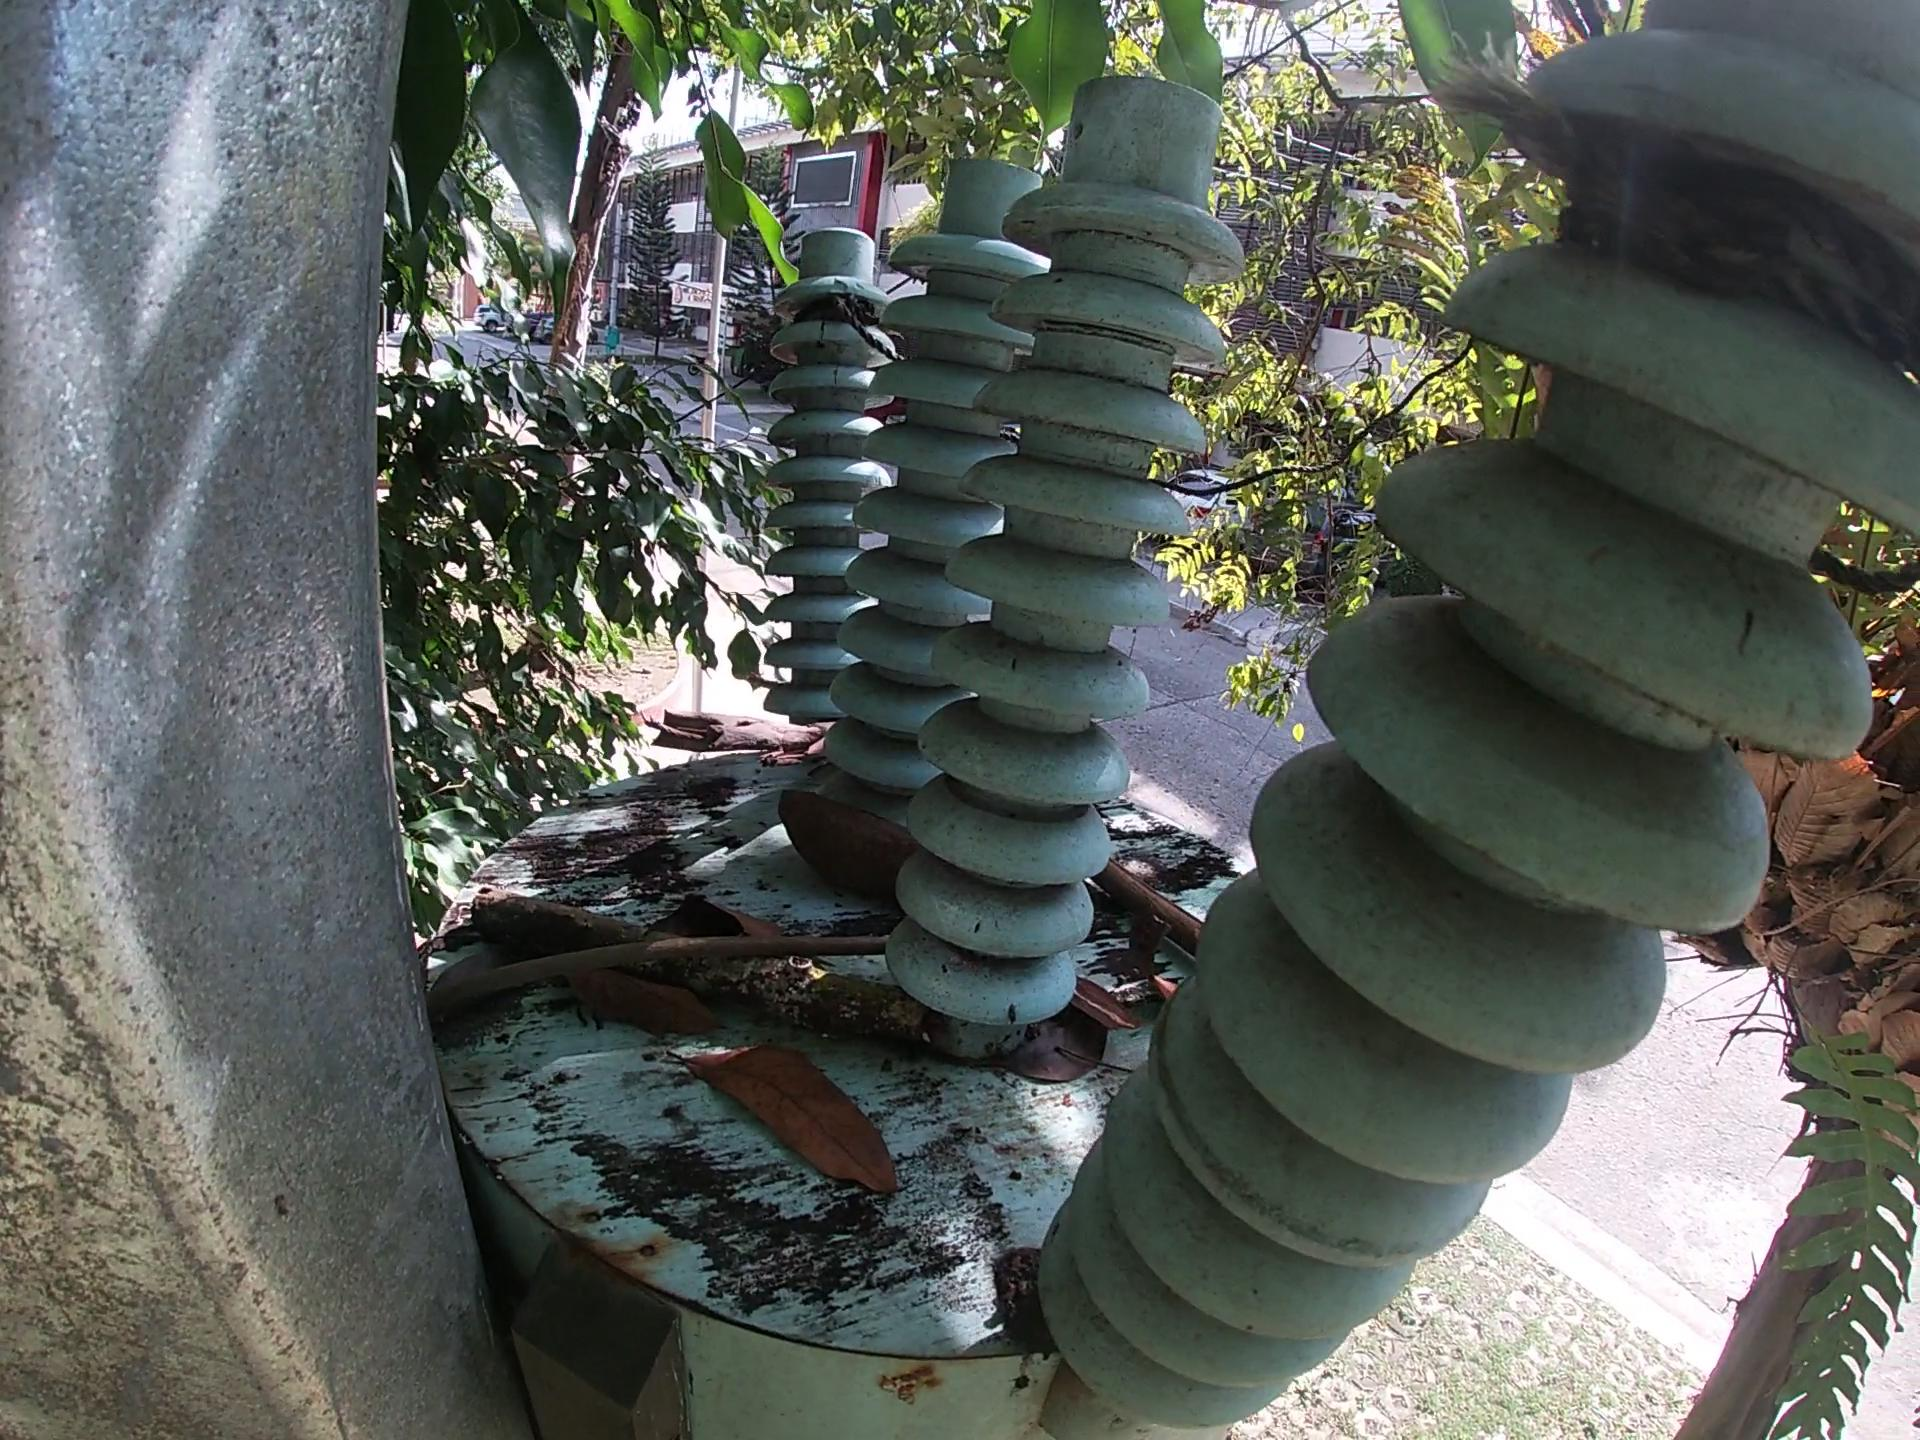leaf: (667, 1042, 909, 1207), (562, 965, 724, 1035), (974, 1018, 1116, 1085), (643, 895, 794, 939)
mahogany fruit: (776, 784, 918, 900), (1066, 974, 1143, 1038), (1138, 917, 1185, 1007)
tree branch: (466, 883, 928, 1047), (416, 933, 900, 1026), (1089, 855, 1209, 961), (633, 703, 833, 762)
